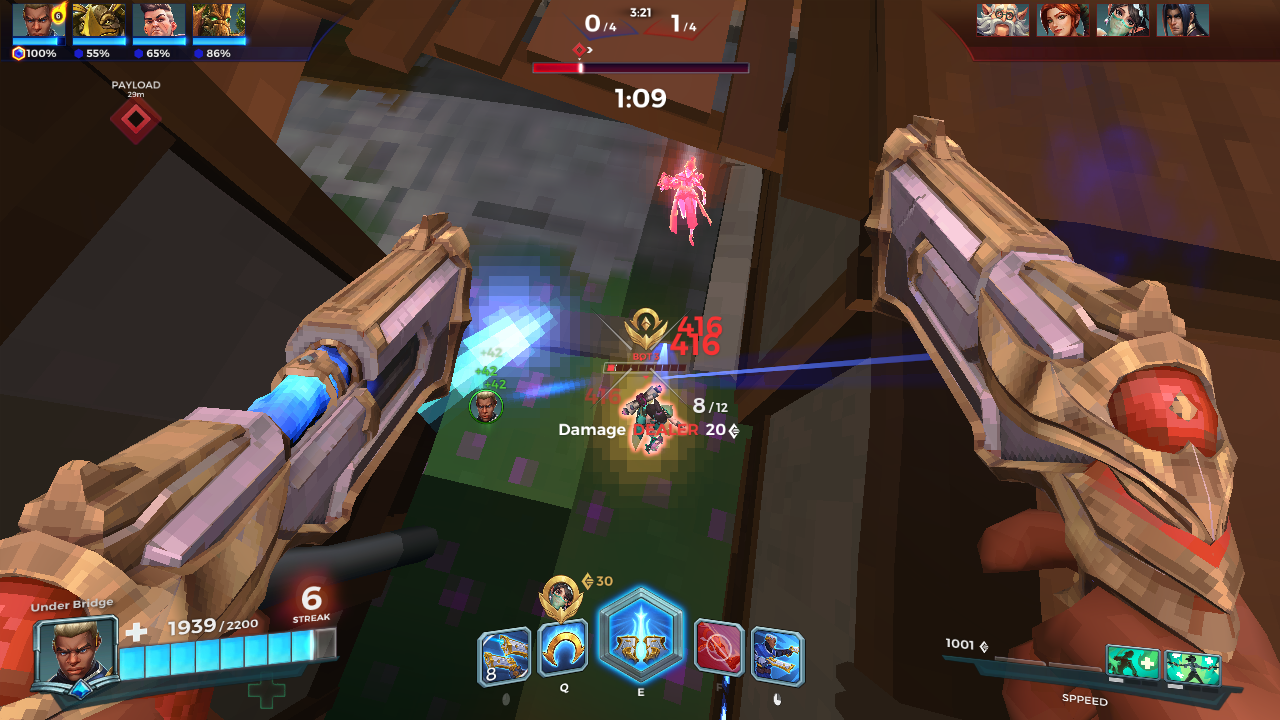model: (614, 381, 684, 460)
